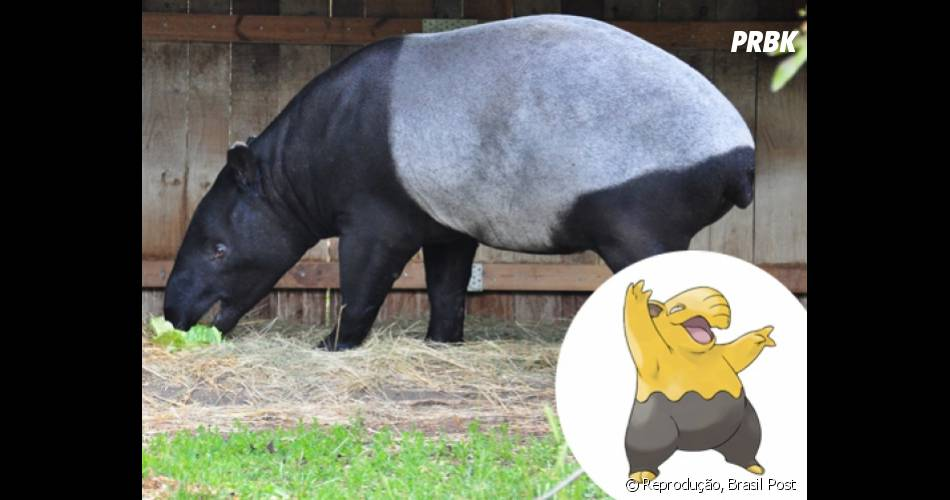Anta: (147, 7, 777, 332)
